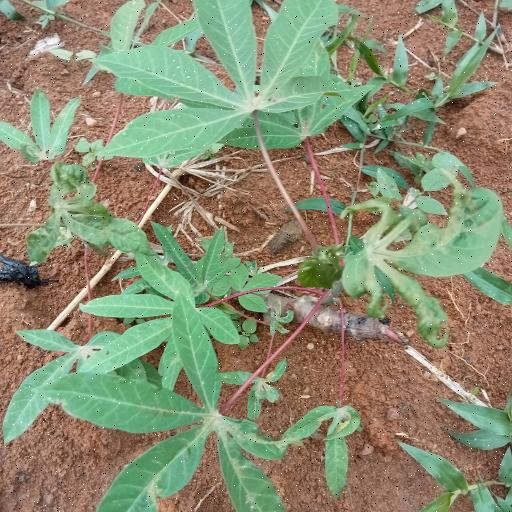Cassava_Mosaic: (74, 303, 278, 512), (98, 3, 345, 160), (331, 186, 512, 319)
